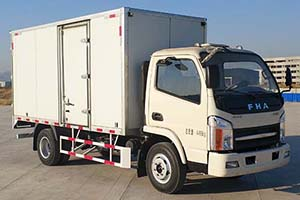smalltruck: (9, 16, 284, 189)
